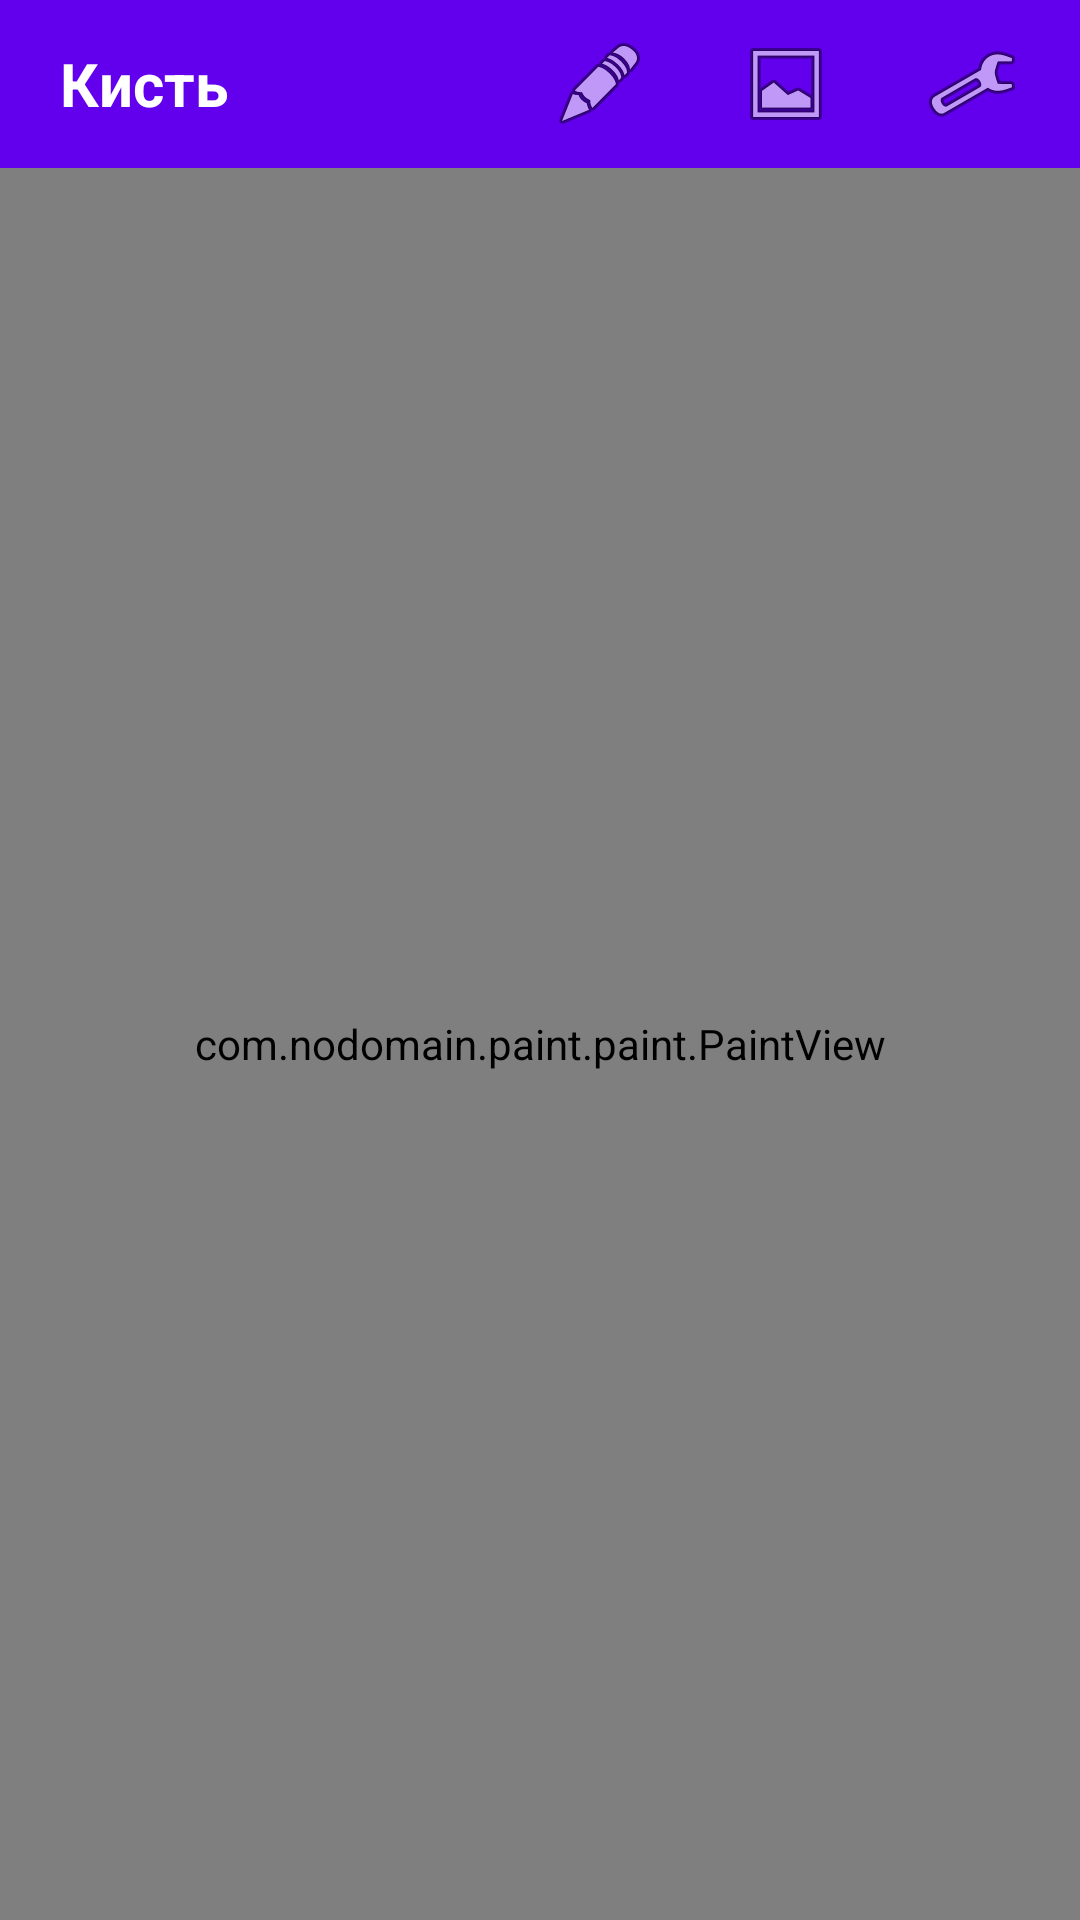

Screen size 1080*1920. Icon name, then its box in pixels as (x1, y1, x2, y2):
edit: (559, 43, 640, 124)
gallery: (750, 48, 822, 120)
preferences: (929, 51, 1015, 117)
